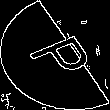P_NE: (15, 27, 95, 83)
